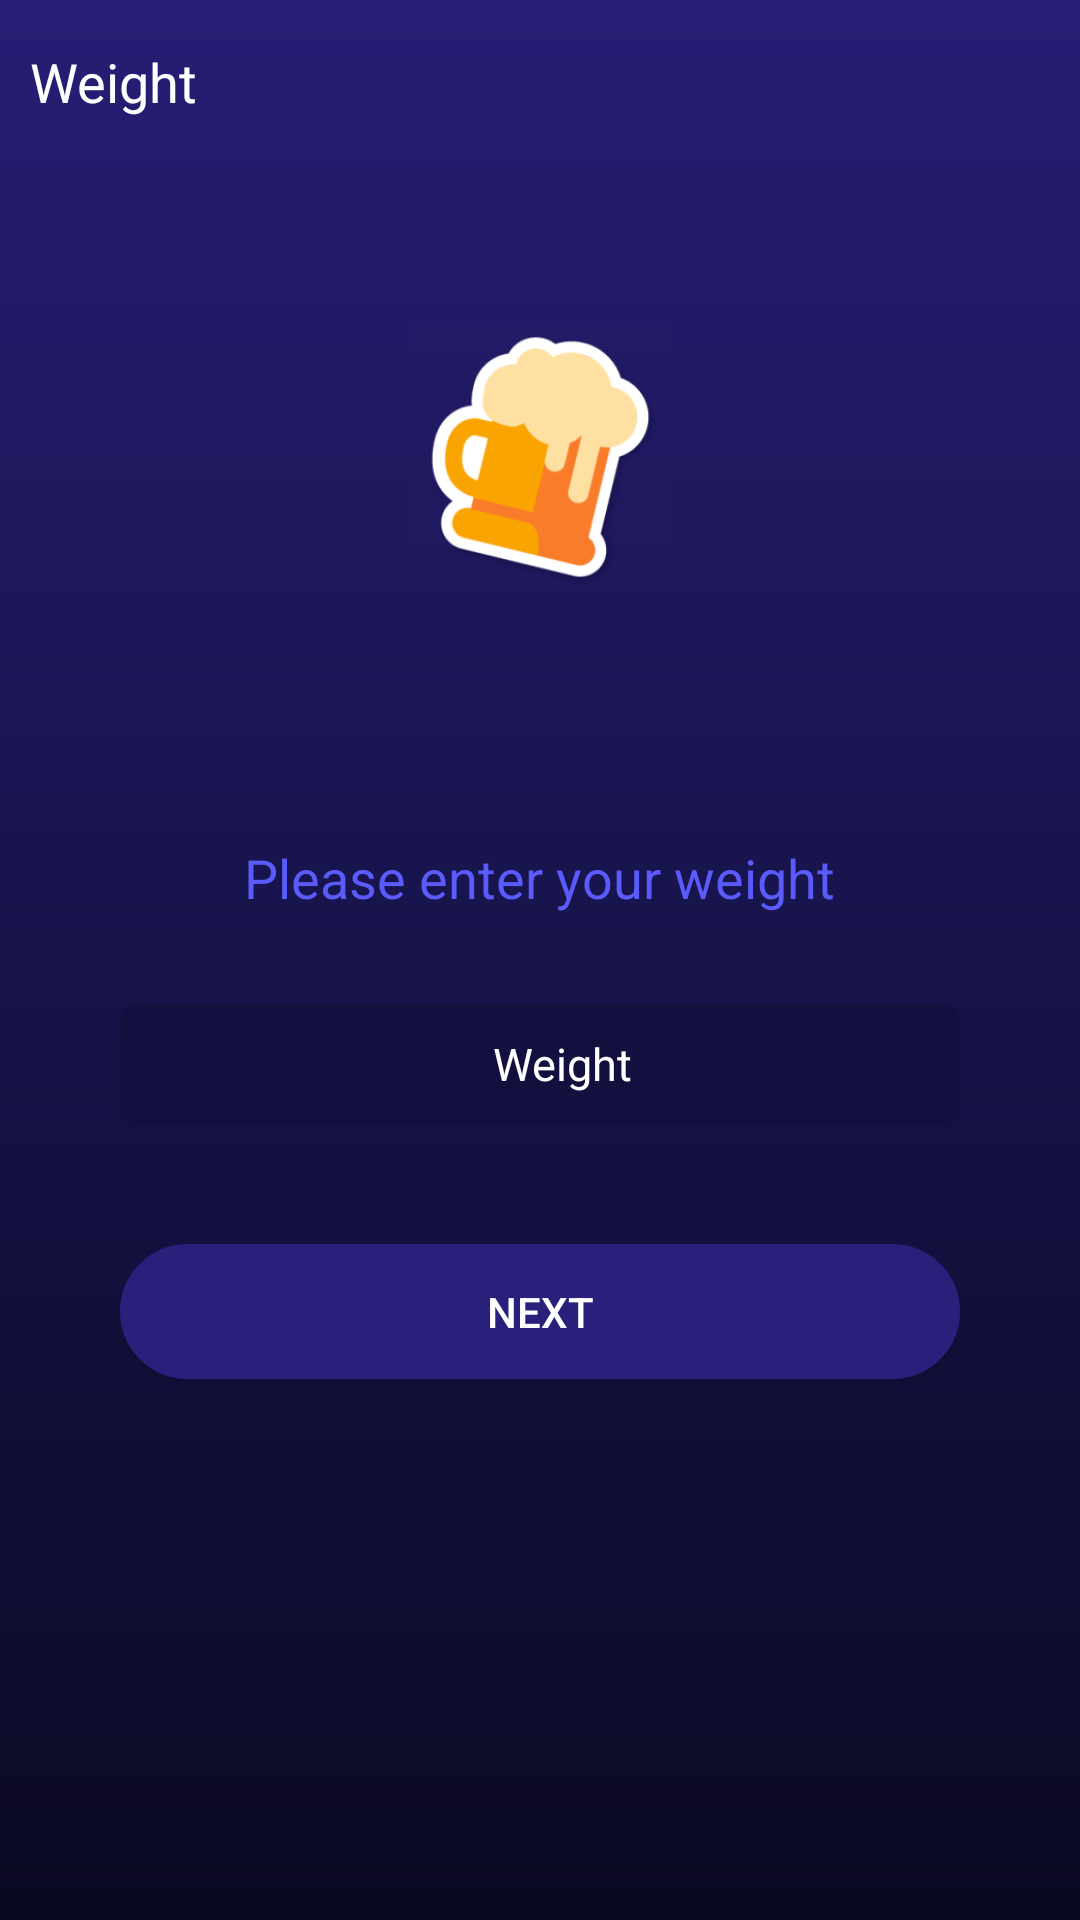

Screen size 1080*1920. Icon name, then its box in pixels as (x1, y1, x2, y2):
beer: (432, 337, 649, 577)
